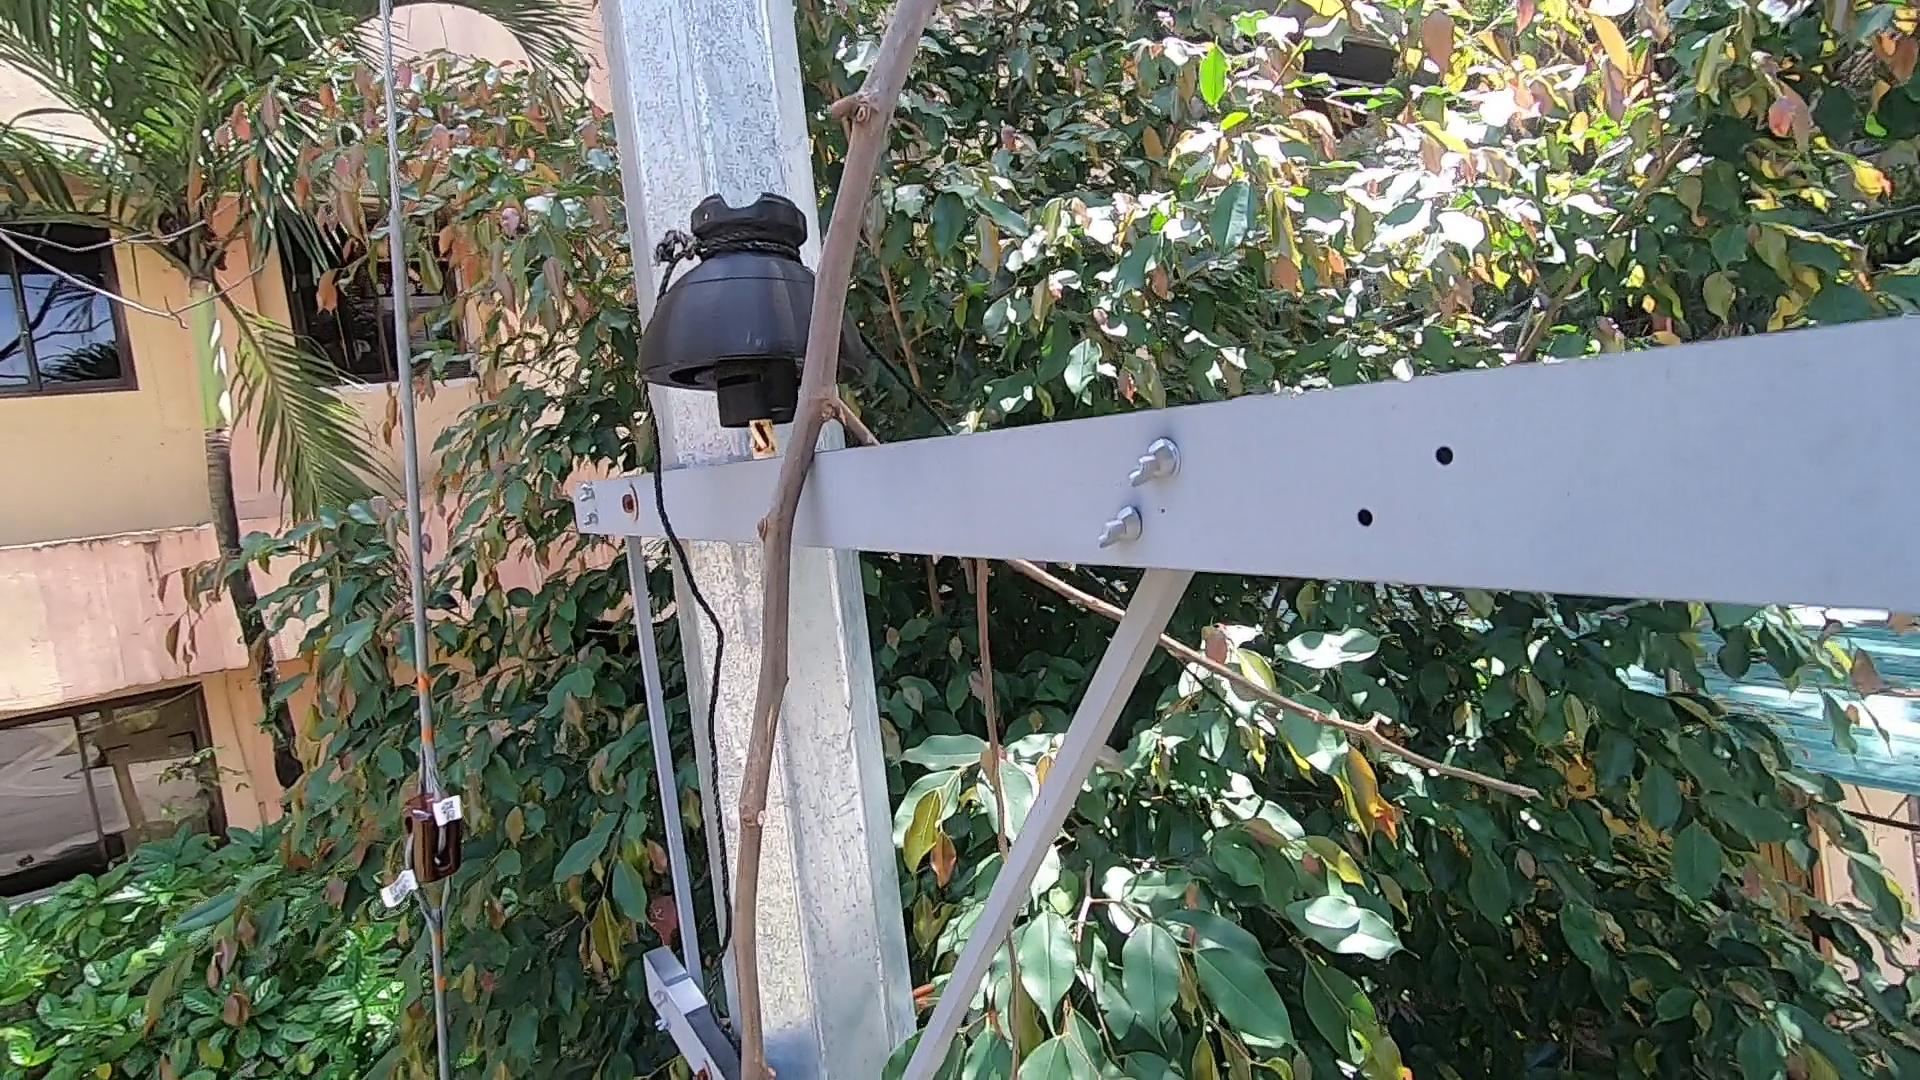tree branch: (647, 7, 906, 1080)
